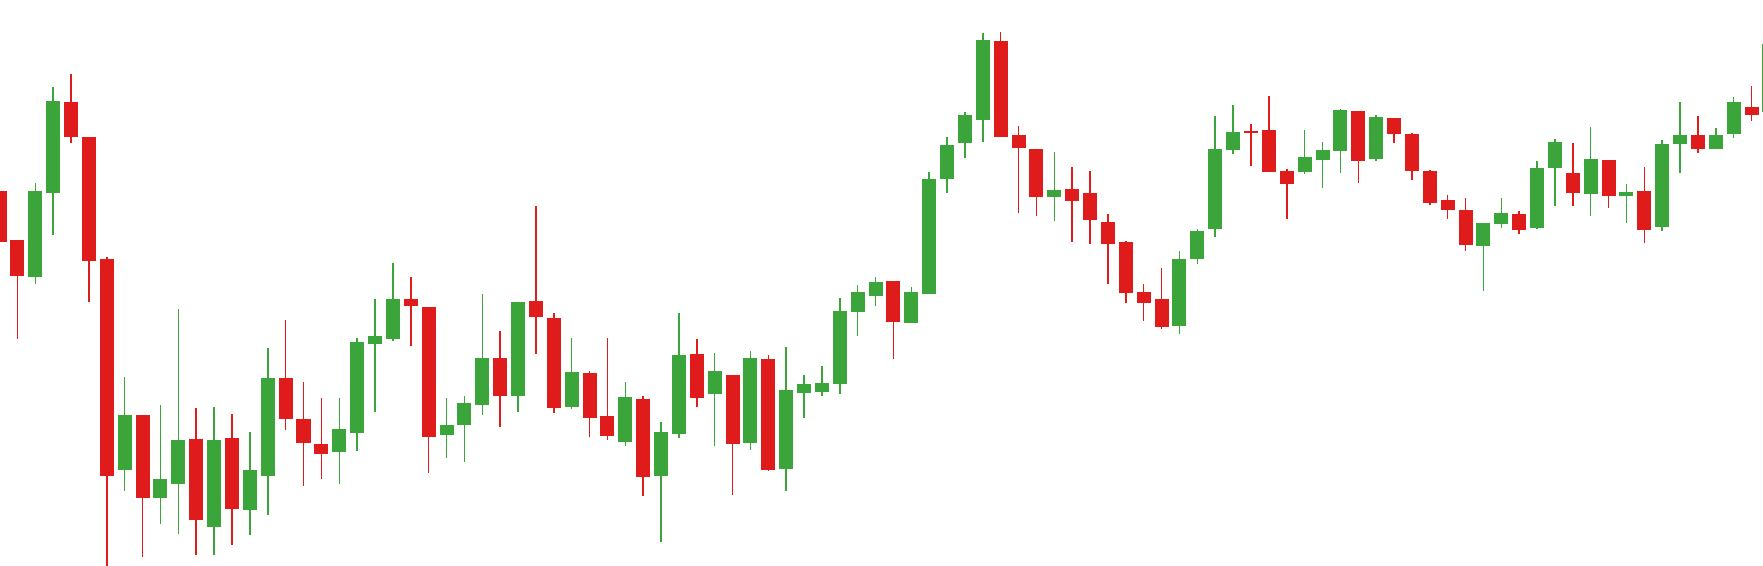buy: (1280, 142, 1510, 291)
